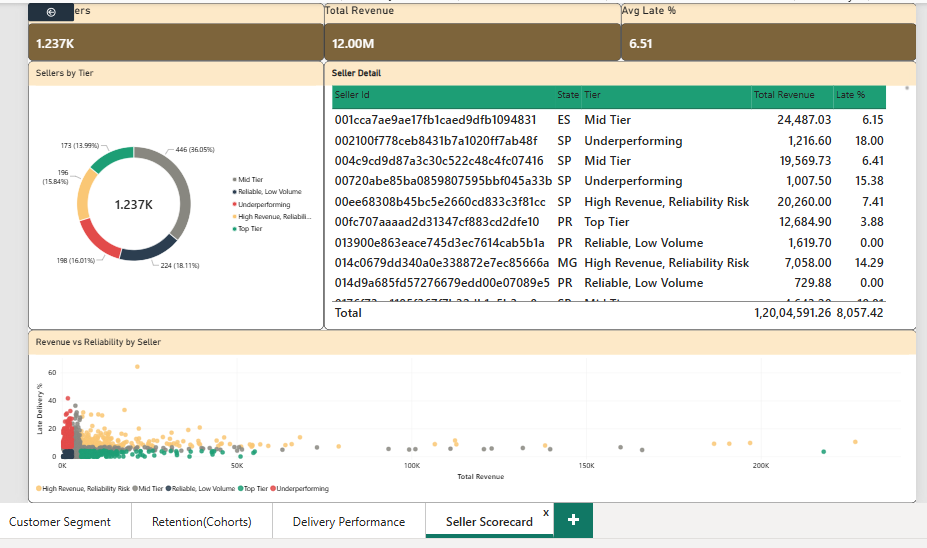

What the dashboard file says about the page in this screenshot:
{"tool":"powerbi","page":{"name":"Seller Scorecard","canvas":[1920,1080],"ordinal":3},"visuals":[{"type":"cardVisual","title":"Total Sellers","fields":{"Data":["Count(ecommerce_analytics vw_seller_performance.seller_id)"]},"box":[0,0,640,125],"z":0},{"type":"cardVisual","title":"Total Revenue","fields":{"Data":["Sum(ecommerce_analytics vw_seller_performance.total_revenue)"]},"box":[639.4,0,642,125],"z":1000},{"type":"cardVisual","title":"Avg Late %","fields":{"Data":["Avg(ecommerce_analytics vw_seller_performance.late_pct)"]},"box":[1280.9,0,639.4,125.3],"z":2000},{"type":"donutChart","title":"Sellers by Tier","fields":{"Category":["ecommerce_analytics vw_seller_tiers.seller_tier"],"Y":["CountNonNull(ecommerce_analytics vw_seller_tiers.seller_id)"]},"box":[0,125.3,639.4,581],"z":3000},{"type":"scatterChart","title":"Revenue vs Reliability by Seller","fields":{"X":["ecommerce_analytics vw_seller_performance.total_revenue"],"Y":["ecommerce_analytics vw_seller_performance.late_pct"],"Series":["ecommerce_analytics vw_seller_tiers.seller_tier"]},"box":[0,706.3,1920.2,373.7],"z":4000},{"type":"tableEx","title":"Seller Detail","fields":{"Values":["ecommerce_analytics vw_seller_tiers.seller_id","ecommerce_analytics vw_seller_tiers.seller_state","ecommerce_analytics vw_seller_tiers.seller_tier","Sum(ecommerce_analytics vw_seller_tiers.total_revenue)","Sum(ecommerce_analytics vw_seller_tiers.late_pct)"]},"box":[639.4,125.3,1280.9,581],"z":5000},{"type":"actionButton","box":[0,0,100,40],"z":5001}]}

Visuals, with their boxes on the page's 1920x1080 design canvas (x1, y1, x2, y2). These are canvas units, not pixel positions in the 927x548 screenshot, which may show the page scaled, cropped or inside an application window:
"Total Sellers" cardVisual: [0,0,640,125]
"Total Revenue" cardVisual: [639,0,1281,125]
"Avg Late %" cardVisual: [1281,0,1920,125]
"Sellers by Tier" donutChart: [0,125,639,706]
"Revenue vs Reliability by Seller" scatterChart: [0,706,1920,1080]
"Seller Detail" tableEx: [639,125,1920,706]
actionButton: [0,0,100,40]
